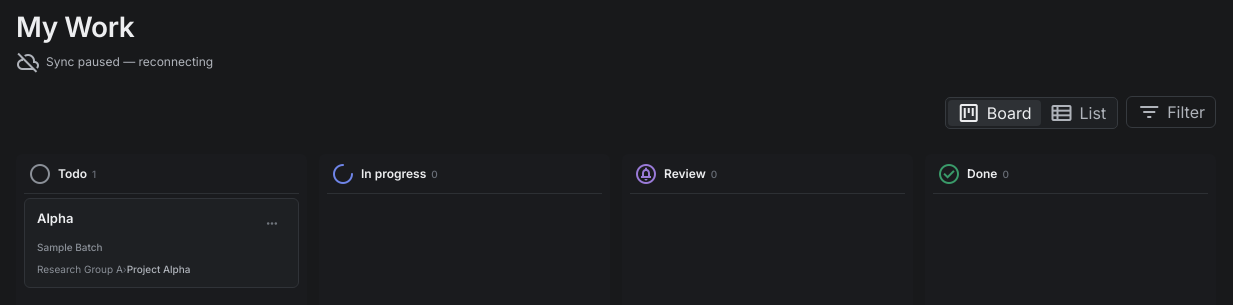
Scenario: My Work realtime — degraded mode › keeps the surface operable while the stream is down
This screenshot has width=1233, height=305.
Expected: the message "Sync paused — reconnecting" is shown, left=16, top=50, right=213, bottom=74
Expected: the message shows "Sync paused", left=46, top=54, right=213, bottom=69
What coordinates should you click on to do the following:
click the button "List"
I would click on:
 (1078, 113)
Its box is left=1040, top=100, right=1115, bottom=126.
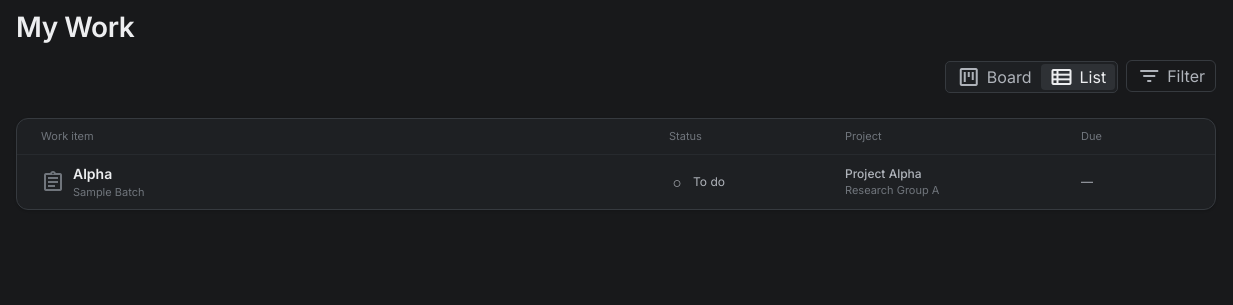
Expected: the button with aria-label "Open Alpha" is shown, left=17, top=155, right=1215, bottom=209
